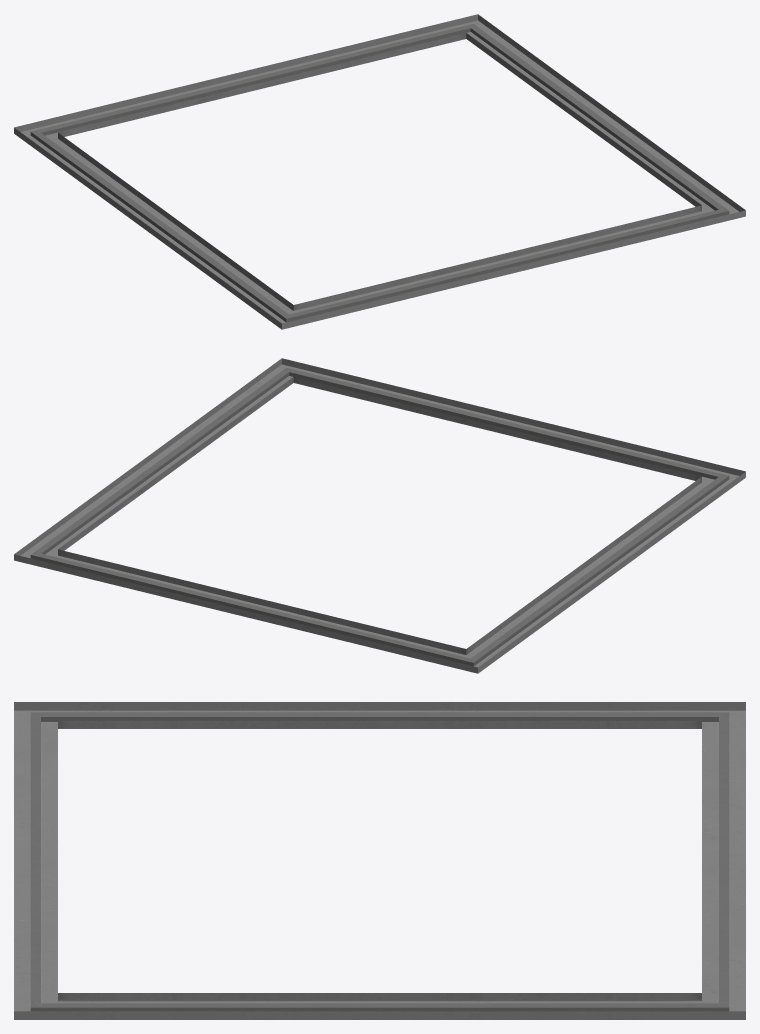
The model's file is SM_CeilingVent_02.fbx.
3 views of the same model, one above another, from view 1: azimuth 30°, elevation 25°; view 2: azimuth 150°, elevation 25°; view 3: azimuth 270°, elevation 25° (orthographic). The views are drawn at different scales.
Parts seen in each view (by area): view 1: SM_CeilingVent_02_LOD0; view 2: SM_CeilingVent_02_LOD0; view 3: SM_CeilingVent_02_LOD0.
Part boxes in pixels (x1=…): SM_CeilingVent_02_LOD0: x1=14, y1=14, x2=745, y2=329; SM_CeilingVent_02_LOD0: x1=14, y1=358, x2=745, y2=673; SM_CeilingVent_02_LOD0: x1=14, y1=702, x2=745, y2=1019.
Size of the model in its own units: 50 by 50 by 0.6382.
1 material, 1 textured.
